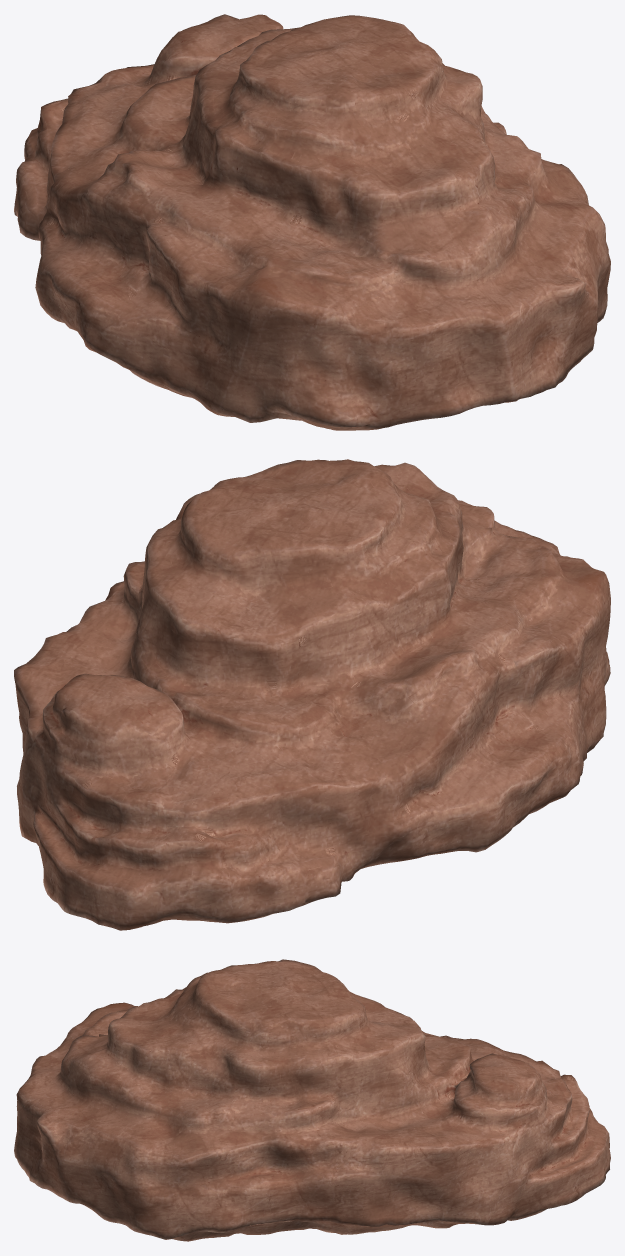
3 views of the same model, one above another, from view 1: azimuth 30°, elevation 25°; view 2: azimuth 150°, elevation 25°; view 3: azimuth 270°, elevation 25° (orthographic). The views are drawn at different scales.
Parts seen in each view (by area): view 1: P11DesertCliff-High; view 2: P11DesertCliff-High; view 3: P11DesertCliff-High.
Boxes of the visible parts, box(x1,y1,x2,y2) form: P11DesertCliff-High: box(14, 14, 610, 430); P11DesertCliff-High: box(14, 459, 610, 930); P11DesertCliff-High: box(14, 959, 610, 1241).
Bounding box in the file's own units: 1458 × 856 × 2131.
Materials: 1 (1 with a texture image).
